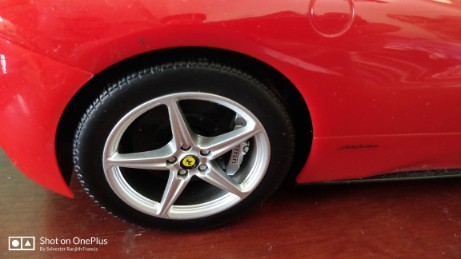aligned_wheel: (68, 53, 300, 232)
